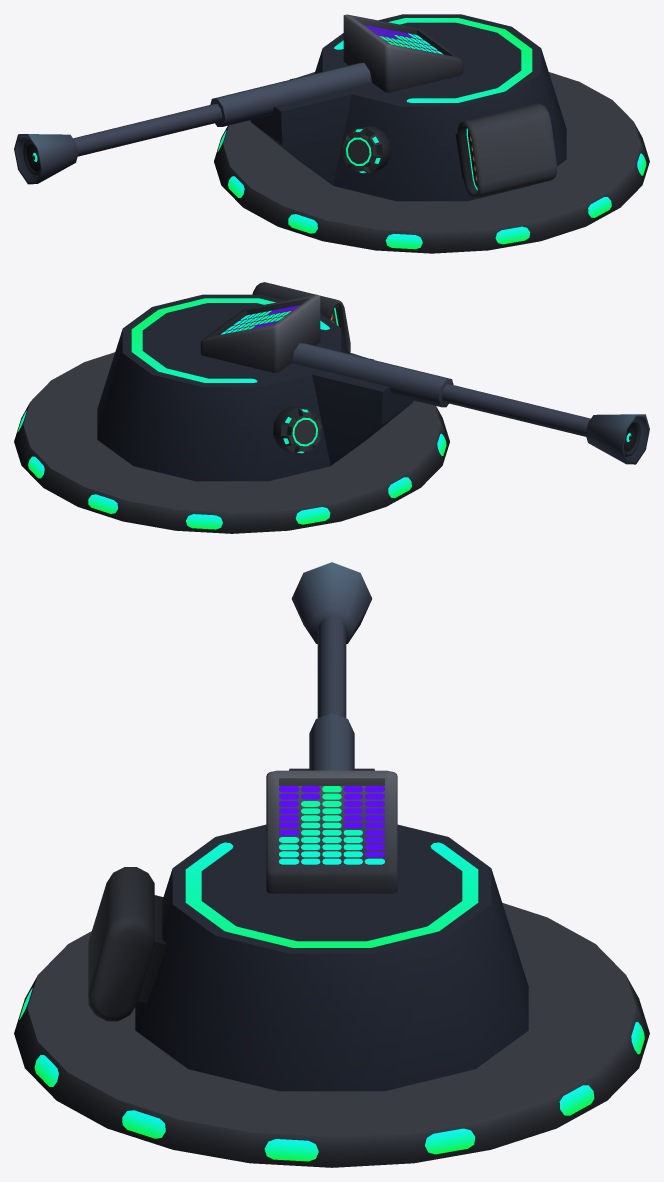
The model's file is turquoise_01.fbx.
The picture shows the model from 3 angles, top to bottom: view 1: azimuth 30°, elevation 25°; view 2: azimuth 150°, elevation 25°; view 3: azimuth 270°, elevation 25°; orthographic projection. The views are drawn at different scales.
Visible parts, largest first — view 1: Circle.028, turquoise_01; view 2: Circle.028, turquoise_01; view 3: Circle.028, turquoise_01.
Boxes of the visible parts, x1,y1,x2,y2 form: Circle.028: (14, 14, 566, 201); turquoise_01: (214, 72, 649, 253); Circle.028: (97, 282, 649, 481); turquoise_01: (14, 352, 449, 533); Circle.028: (88, 562, 528, 1091); turquoise_01: (14, 903, 649, 1167).
Bounding box in the file's own units: 807 × 192 × 514.
